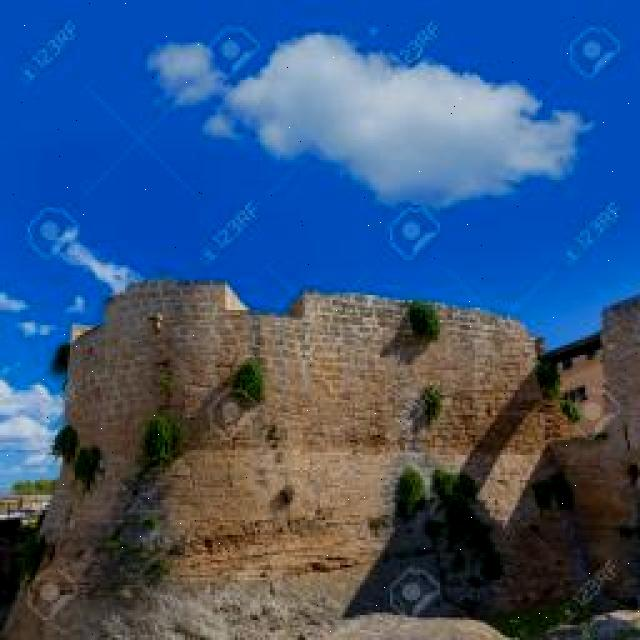dampness: (107, 572, 352, 636)
vegetation: (397, 468, 531, 608), (106, 517, 172, 590), (7, 532, 49, 592), (143, 414, 179, 466), (531, 471, 575, 512), (395, 465, 427, 517), (230, 357, 265, 404), (73, 445, 102, 494), (407, 299, 440, 339), (534, 356, 560, 400), (52, 424, 78, 466), (431, 467, 461, 503), (154, 364, 178, 408), (421, 385, 443, 424), (51, 343, 71, 375), (559, 397, 581, 424)
